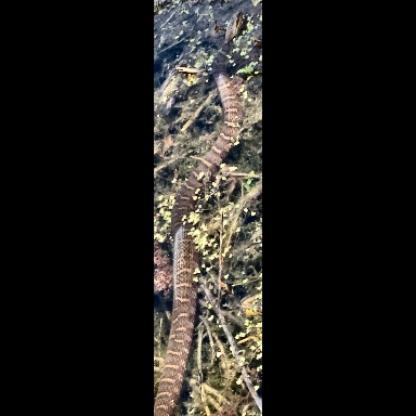Snake: (156, 52, 244, 412)
